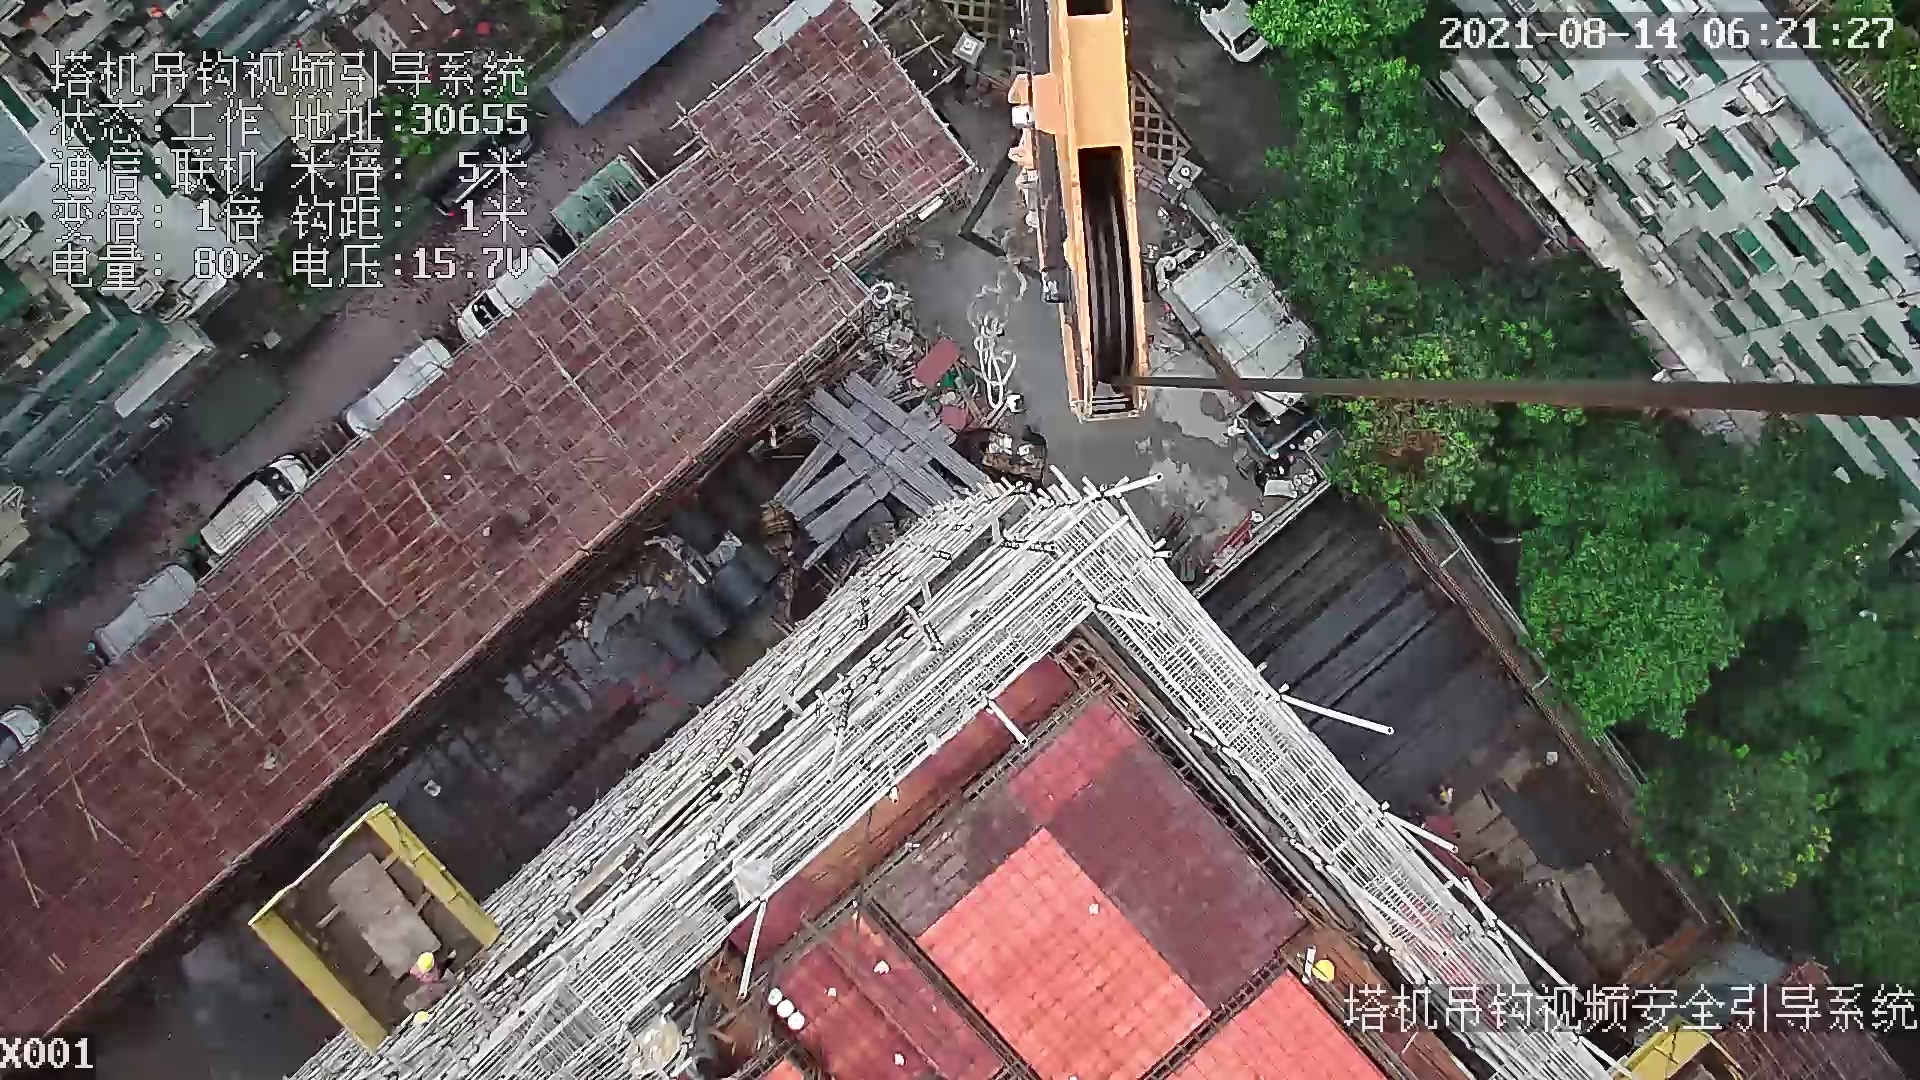helmet: (1309, 960, 1338, 983), (416, 952, 437, 974)
hook: (1008, 1, 1149, 418)
person: (409, 955, 450, 989)
rebar: (1215, 515, 1478, 750)
